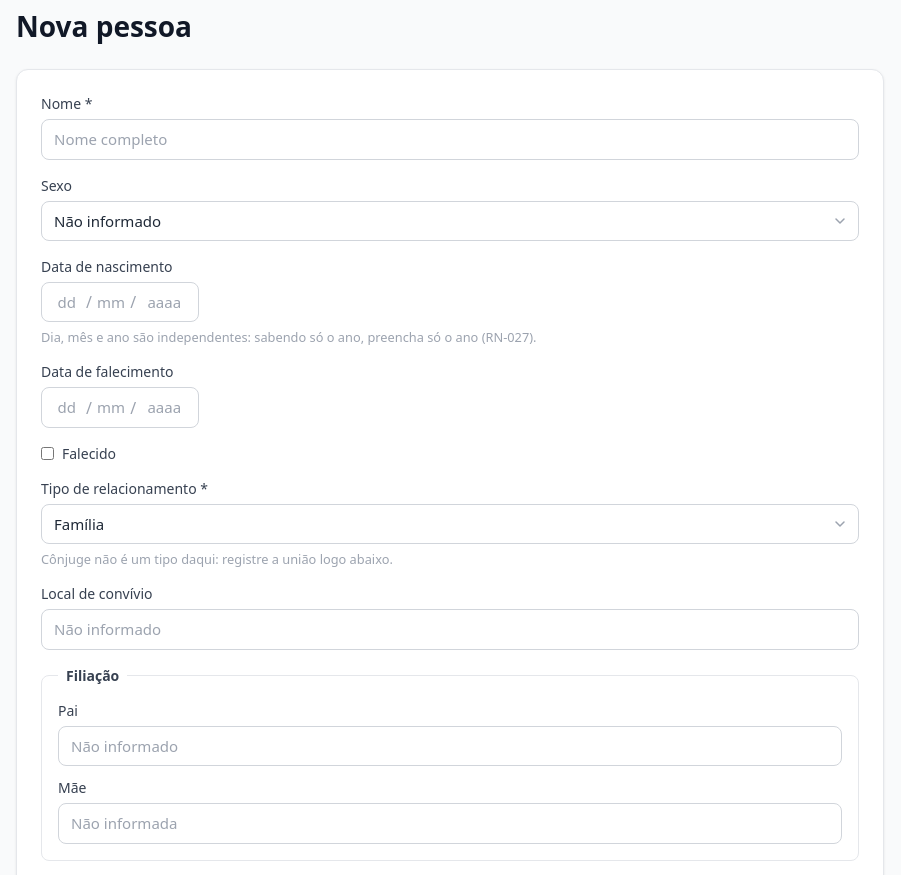
Test: PersonFormPage — campos digitáveis e filtros de filiação (ADR-024, RN-026) › digitar filtra a lista, ignorando acento e caixa
Expected: the field labelled "Nome *" is shown, top-left (41, 119), bottom-right (859, 160)
Step 1. Type "jose" into the dropdown labelled "Pai" → (450,746), box top-left (58, 726), bottom-right (842, 766)
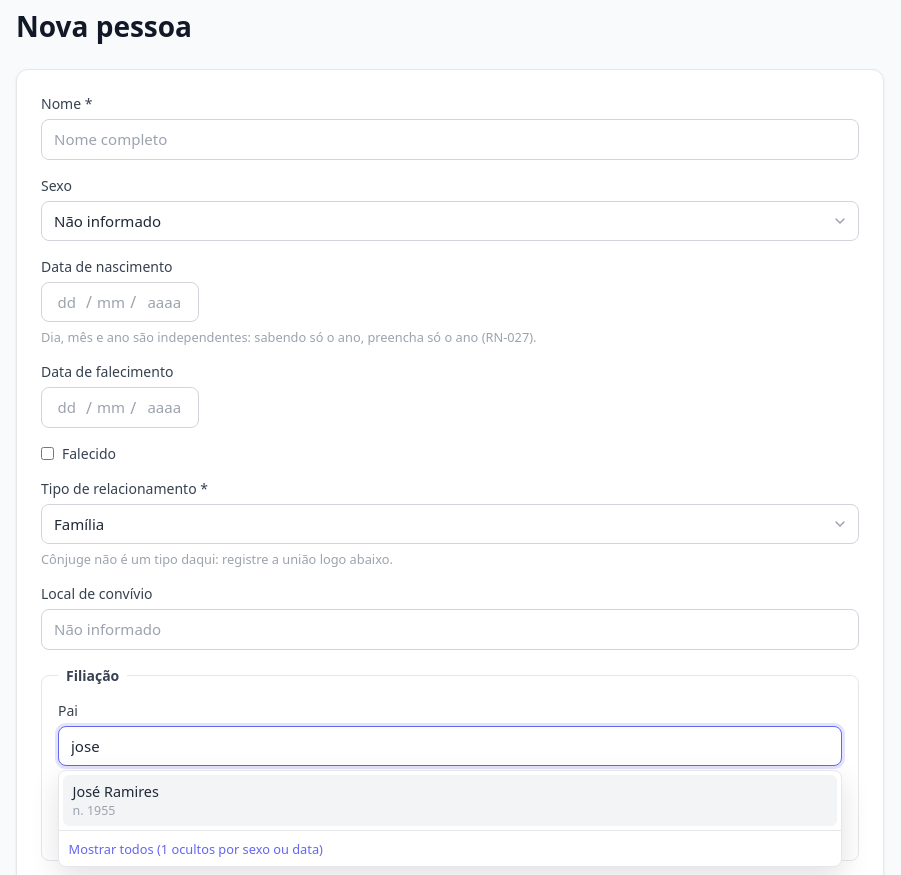
Now the number of options is 1, box top-left (63, 775), bottom-right (837, 826)
Now the option shows "José Ramires", box top-left (63, 775), bottom-right (837, 826)
